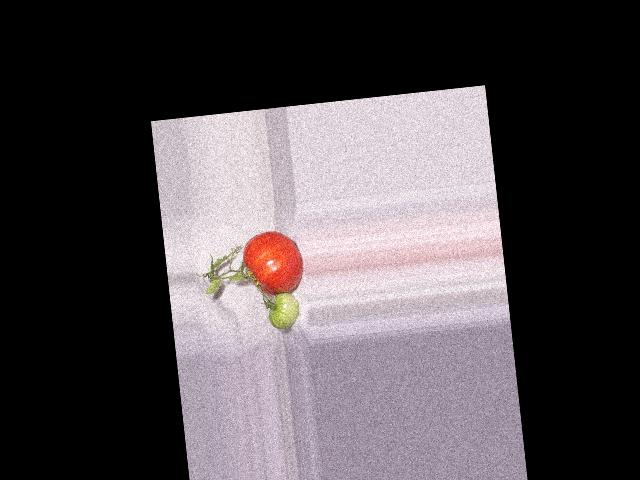tomato: (240, 228, 305, 298)
